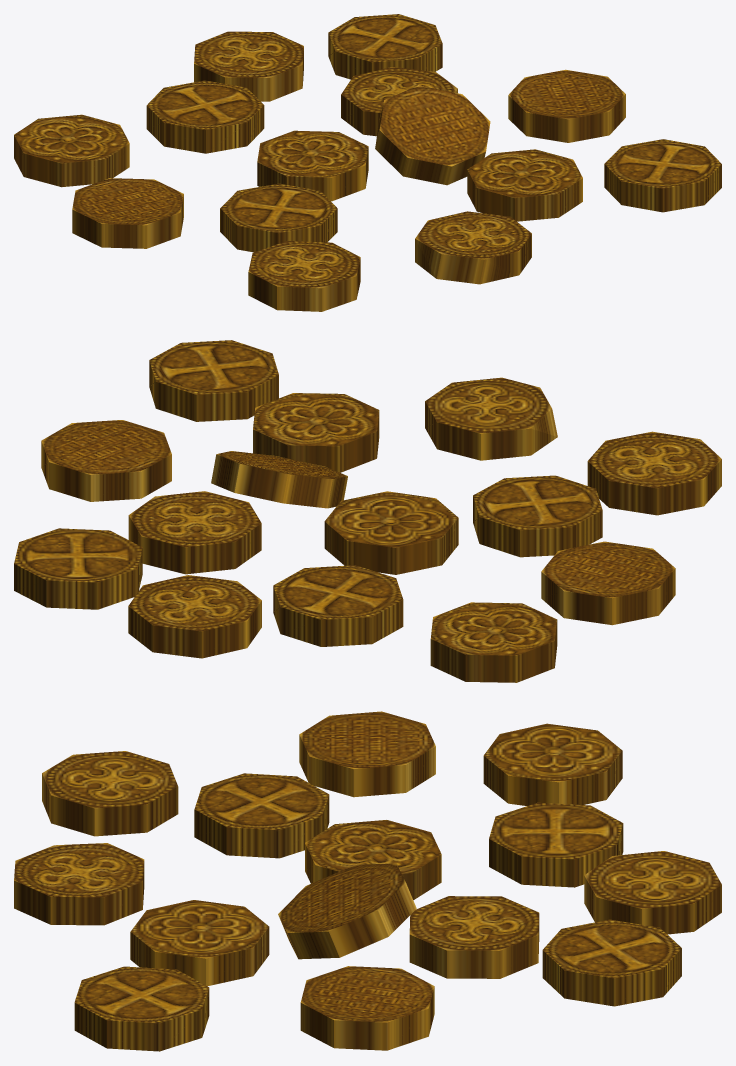
Rendered from amberlings.fbx.
3 renders of one model, top to bottom at view 1: azimuth 30°, elevation 25°; view 2: azimuth 150°, elevation 25°; view 3: azimuth 270°, elevation 25°, orthographic. The views are drawn at different scales.
Visible parts, largest first — view 1: Coins; view 2: Coins; view 3: Coins.
Part boxes in pixels (box(x1,y1,x2,y2)): Coins: box(14, 14, 721, 311); Coins: box(14, 340, 721, 682); Coins: box(14, 711, 721, 1051).
Bounding box in the file's own units: 0.5879 × 0.0614 × 0.5637.
